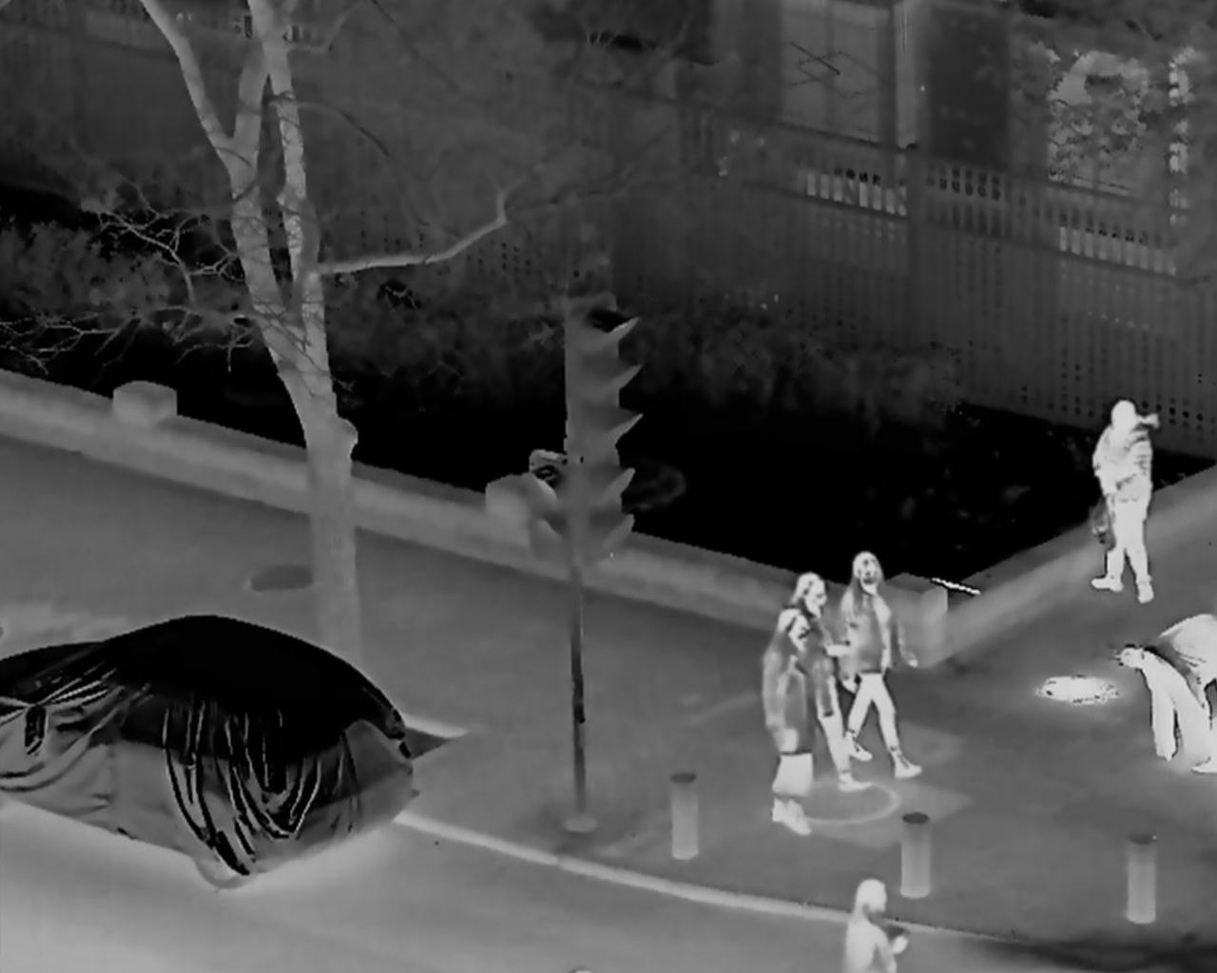person: (780, 569, 868, 793), (837, 551, 924, 777), (1085, 397, 1158, 605), (759, 612, 816, 838), (1141, 612, 1211, 775), (837, 883, 904, 973)
